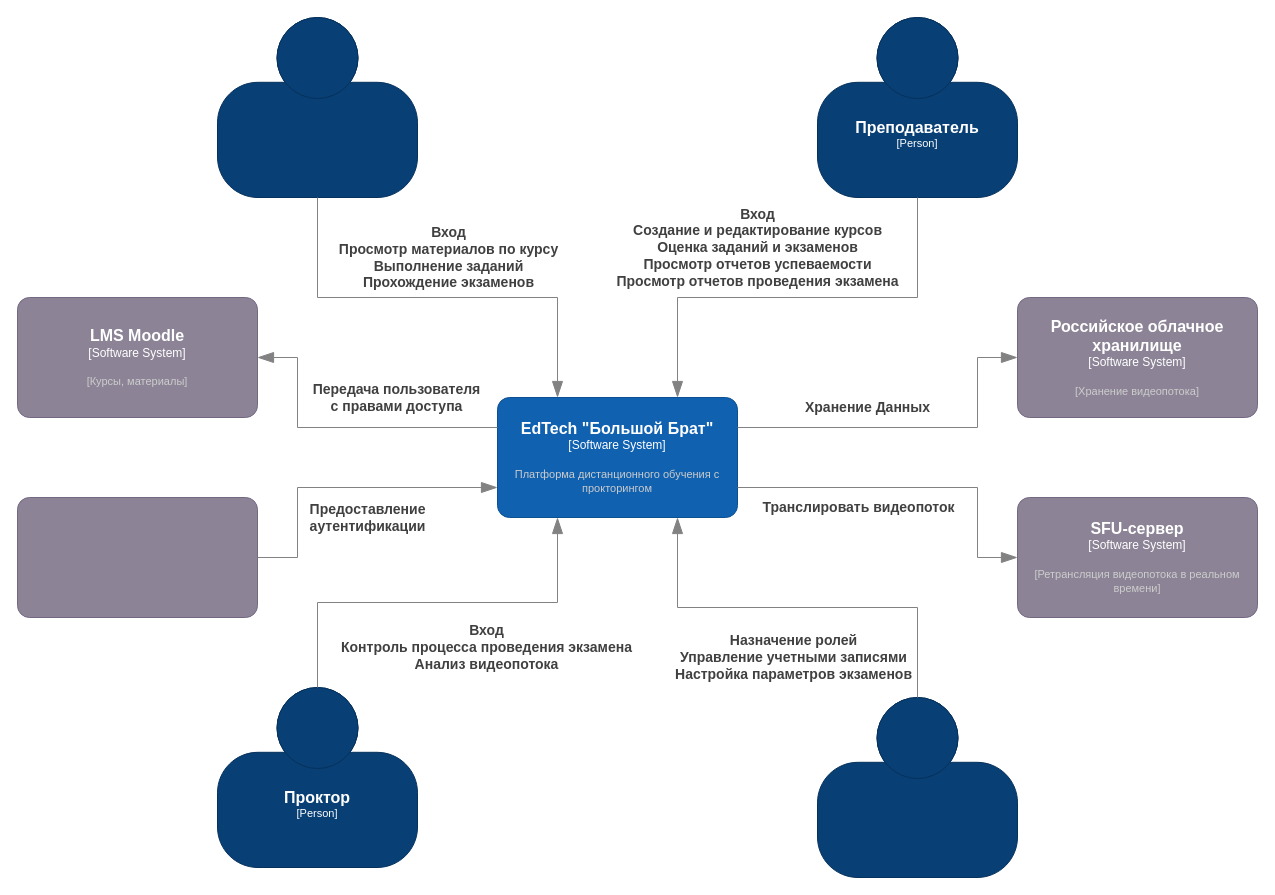
Some shapes in this 1275 by 895 pixel diagram are drawn without their labels. The box of each missing label's shape, as (x1, y1, x2, y2) in pixels:
SSO [Software System] [Учетные записи]: (16, 496, 258, 618)
Администратор учебного подразделения [Person]: (816, 696, 1018, 878)
Студент [Person]: (216, 16, 418, 198)
